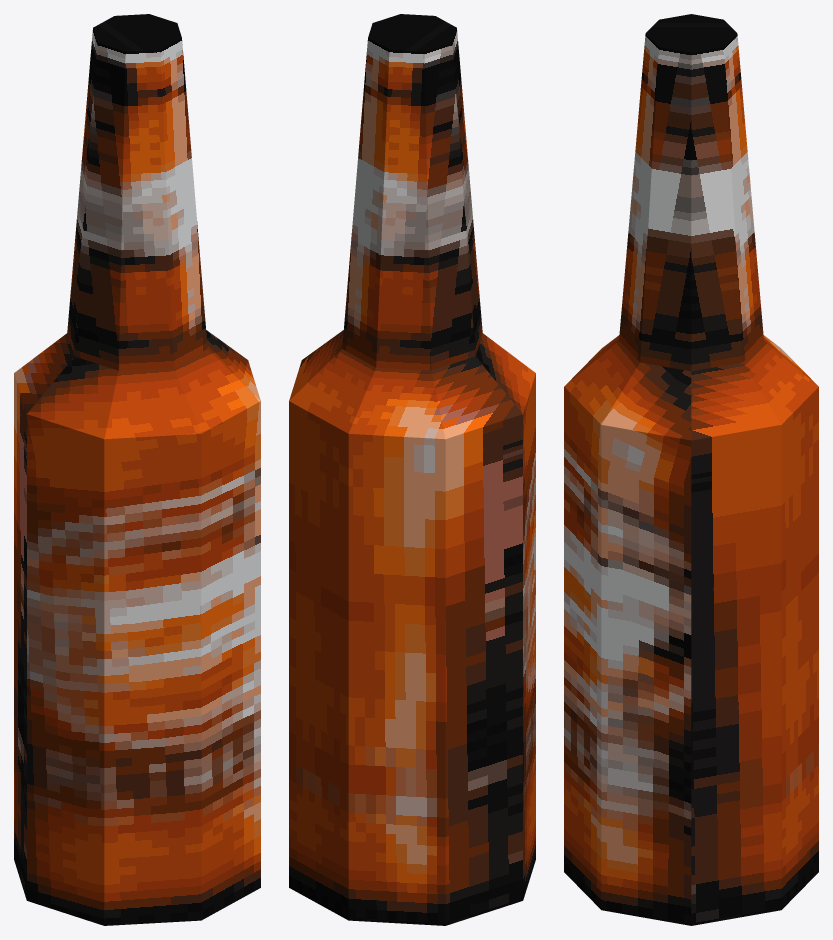
File: Sise.glb
The picture shows the model from 3 angles, left to right: view 1: azimuth 30°, elevation 25°; view 2: azimuth 150°, elevation 25°; view 3: azimuth 270°, elevation 25°; orthographic projection.
Parts seen in each view (by area): view 1: Cylinder; view 2: Cylinder; view 3: Cylinder.
Boxes of the visible parts, bbox=[...] form: Cylinder: bbox=[14, 14, 260, 925]; Cylinder: bbox=[289, 14, 535, 925]; Cylinder: bbox=[564, 14, 818, 925].
Size of the model in its own units: 1.28 by 4.64 by 1.28.
Materials: 1 (1 with a texture image).
